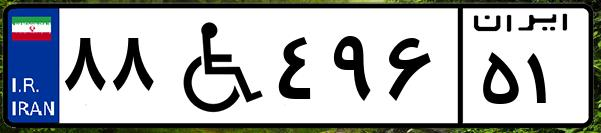1: (525, 38, 570, 115)
4: (270, 28, 330, 110)
5: (475, 38, 525, 113)
6: (385, 28, 445, 110)
8: (57, 26, 110, 100), (110, 28, 158, 98)
9: (330, 28, 385, 110)
ژ (معلولین و جانبازان): (158, 12, 270, 120)
